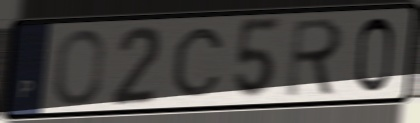0: (354, 14, 395, 95)
2: (110, 23, 167, 109)
5: (230, 16, 285, 104)
C: (169, 25, 227, 99)
O: (51, 27, 108, 109)
R: (283, 15, 346, 100)
